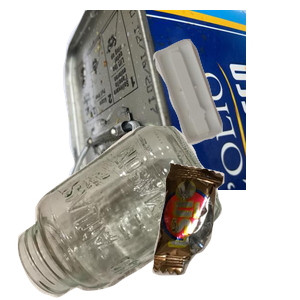glass: (15, 126, 229, 300)
metal: (60, 10, 300, 190)
plastic: (150, 36, 300, 173)
trash: (150, 160, 300, 300)
